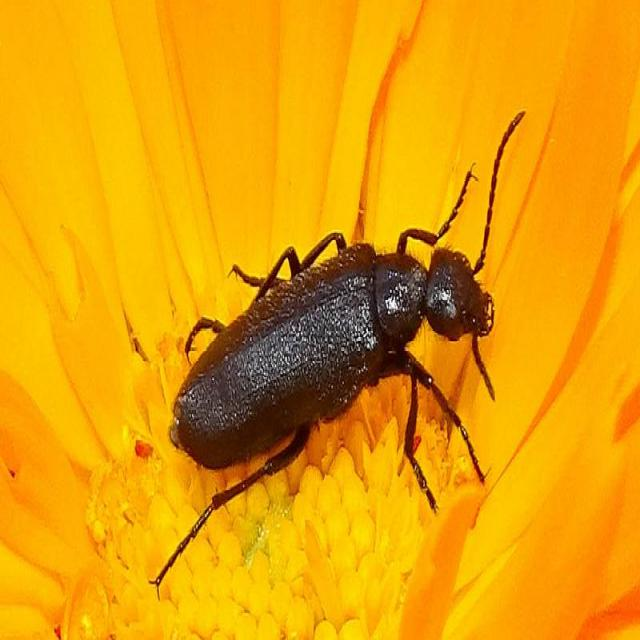BlisterBeetle-Adult-: (143, 106, 527, 604)
